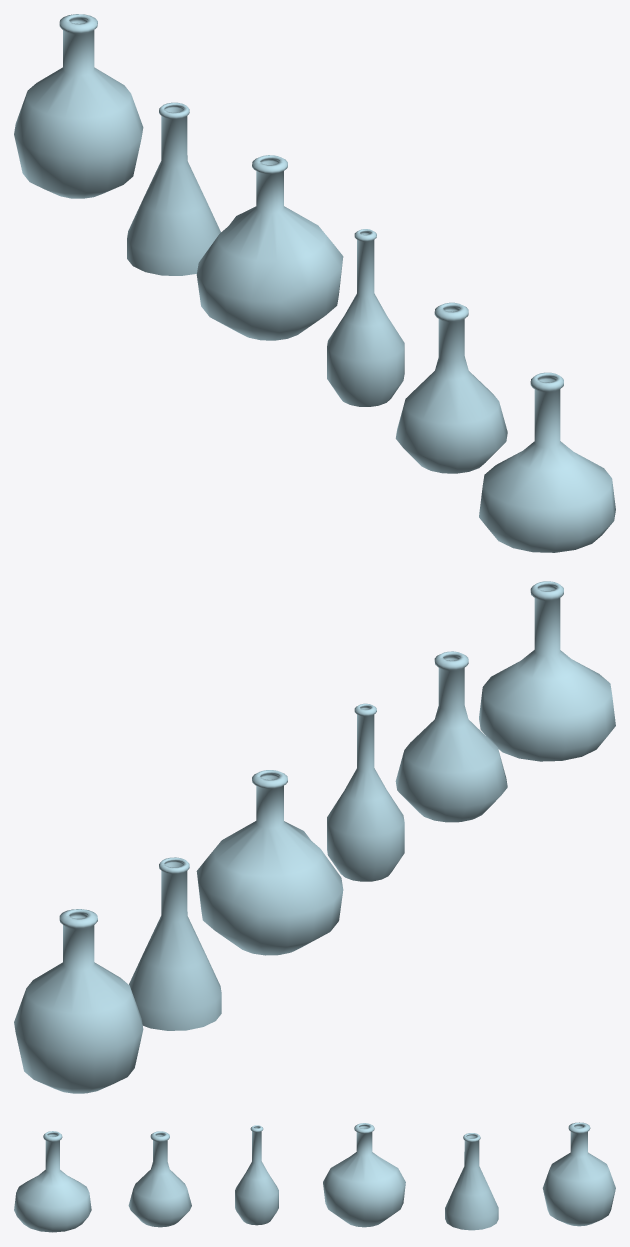
The model's file is flasks_final.fbx.
3 views of the same model, one above another, from view 1: azimuth 30°, elevation 25°; view 2: azimuth 150°, elevation 25°; view 3: azimuth 270°, elevation 25° (orthographic). The views are drawn at different scales.
Parts seen in each view (by area): view 1: Flask_03_Glass, Flask_01_Glass, Flask_06_Glass, Flask_04_Glass, Flask_02_Glass, Flask_05_Glass; view 2: Flask_03_Glass, Flask_01_Glass, Flask_06_Glass, Flask_04_Glass, Flask_02_Glass, Flask_05_Glass; view 3: Flask_03_Glass, Flask_01_Glass, Flask_06_Glass, Flask_04_Glass, Flask_02_Glass, Flask_05_Glass.
Boxes of the visible parts, bbox=[...] form: Flask_03_Glass: bbox=[196, 155, 343, 340]; Flask_01_Glass: bbox=[14, 14, 143, 198]; Flask_06_Glass: bbox=[479, 372, 615, 552]; Flask_04_Glass: bbox=[395, 302, 507, 473]; Flask_02_Glass: bbox=[127, 102, 220, 275]; Flask_05_Glass: bbox=[327, 229, 404, 406]; Flask_03_Glass: bbox=[196, 770, 343, 955]; Flask_01_Glass: bbox=[14, 909, 143, 1093]; Flask_06_Glass: bbox=[479, 581, 615, 761]; Flask_04_Glass: bbox=[395, 651, 507, 822]; Flask_02_Glass: bbox=[129, 857, 221, 1030]; Flask_05_Glass: bbox=[327, 703, 404, 881]; Flask_03_Glass: bbox=[323, 1123, 405, 1227]; Flask_01_Glass: bbox=[542, 1122, 615, 1226]; Flask_06_Glass: bbox=[14, 1131, 91, 1232]; Flask_04_Glass: bbox=[128, 1131, 191, 1227]; Flask_02_Glass: bbox=[445, 1133, 498, 1230]; Flask_05_Glass: bbox=[235, 1125, 278, 1225].
Bounding box in the file's own units: 0.1138 × 0.1412 × 0.825.
